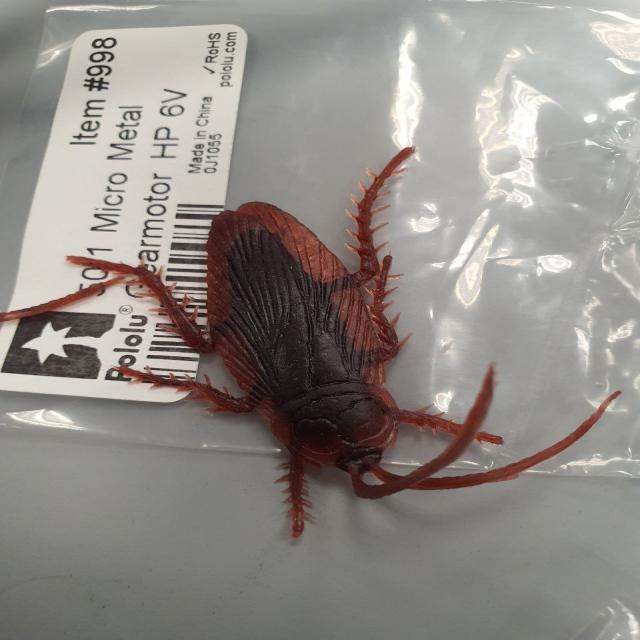Cockroach: (77, 146, 621, 528)
